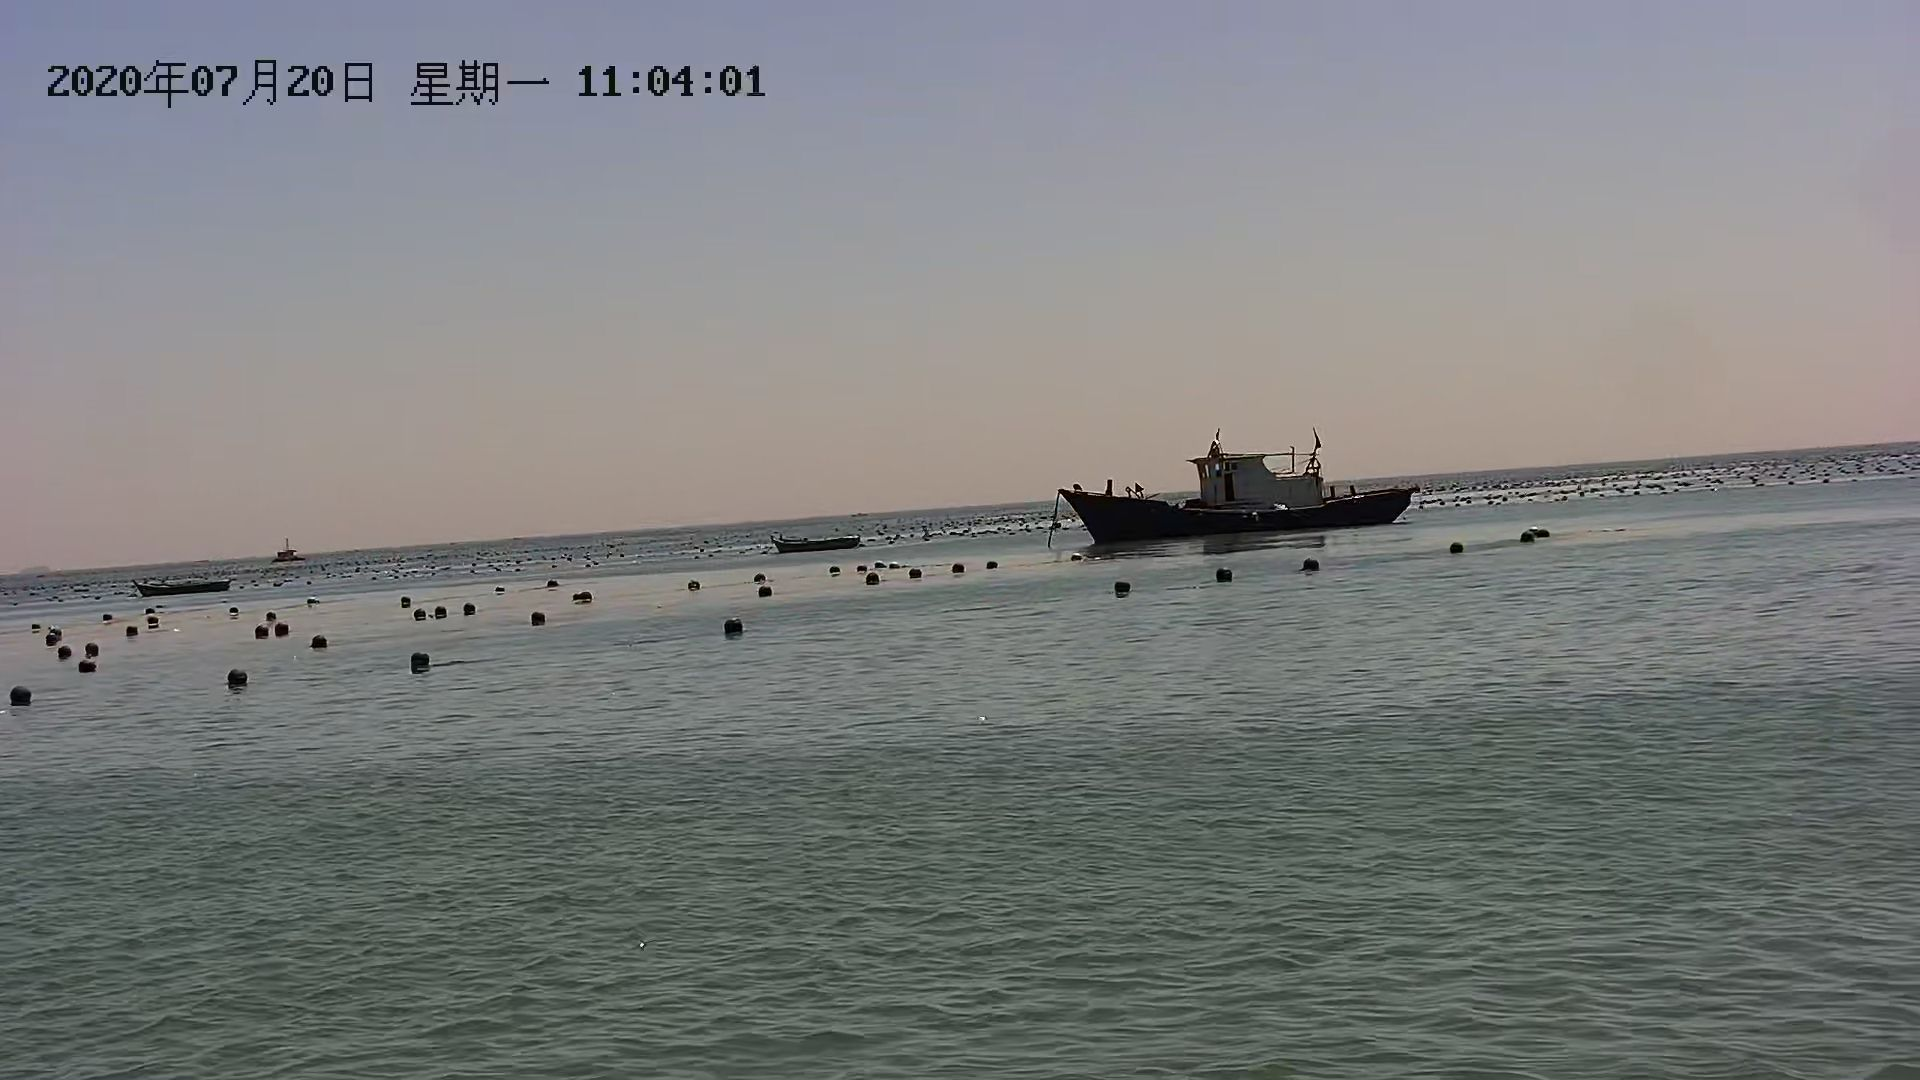ball: (1515, 518, 1549, 556), (219, 661, 257, 694), (7, 679, 40, 711), (404, 646, 443, 673), (717, 611, 748, 642), (1298, 549, 1323, 580), (1105, 578, 1138, 601), (939, 555, 968, 582), (899, 564, 934, 585), (1443, 534, 1466, 564), (305, 629, 338, 650), (455, 597, 483, 621), (73, 653, 102, 675), (1209, 564, 1234, 588), (754, 582, 777, 607), (525, 603, 545, 630), (251, 621, 273, 645), (120, 622, 145, 642), (429, 601, 450, 621), (861, 572, 884, 591), (57, 642, 80, 659)
boat: (133, 575, 233, 601), (771, 537, 862, 553)
ship: (1042, 446, 1420, 535)
